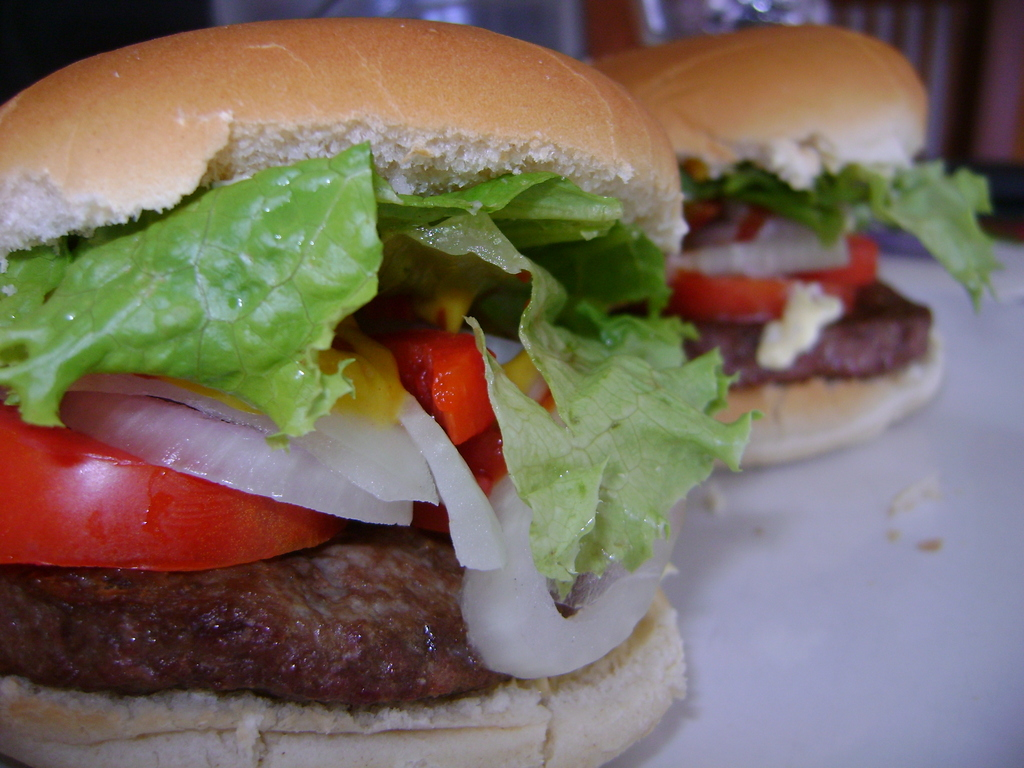Hamburger: (0, 13, 762, 767), (593, 26, 1000, 471)
